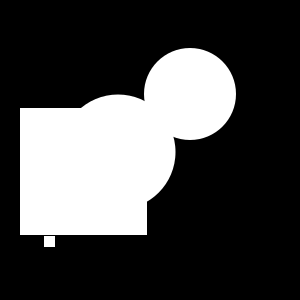circle: (20, 108, 147, 235), (44, 236, 55, 247)
rectangle: (60, 95, 176, 210), (144, 48, 236, 140), (25, 156, 59, 190)
